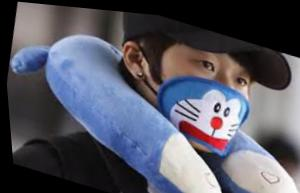WRONG: (142, 31, 260, 162)
